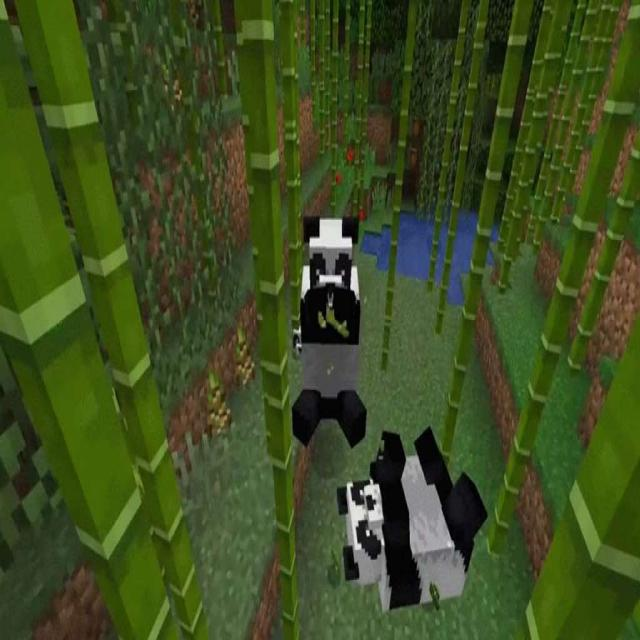Panda: (336, 424, 486, 614), (292, 213, 366, 448), (289, 318, 307, 362)
